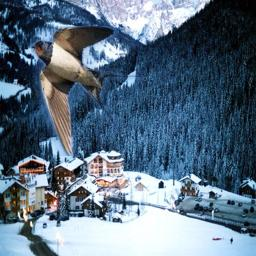Swallow: (31, 26, 145, 156)
